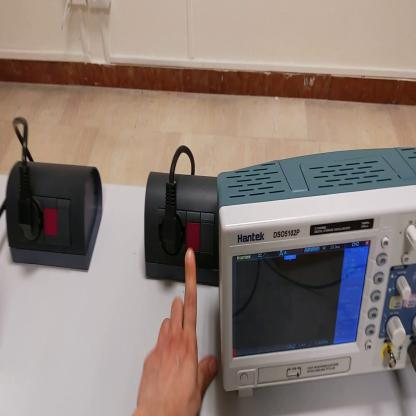hand: (136, 247, 218, 416)
oscilloscope: (215, 147, 416, 394)
socket: (4, 162, 105, 271), (143, 172, 219, 288)
